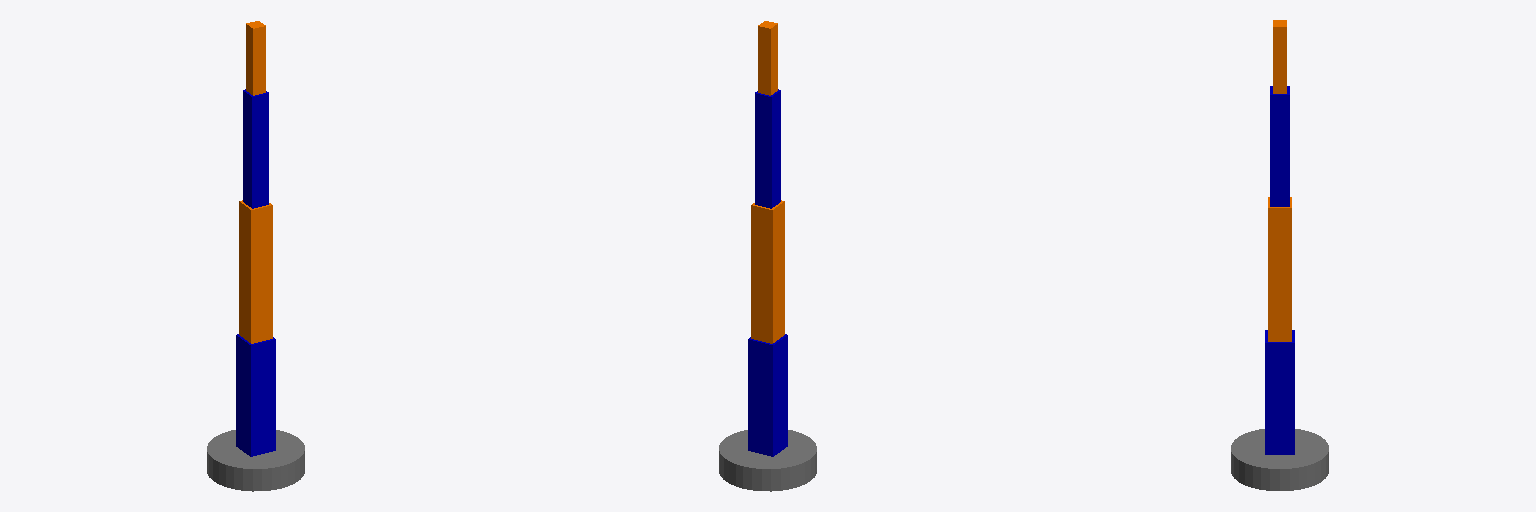
robot.urdf — 4dof_arm:
<?xml version="1.0"?>
<robot name="4dof_arm">

  <!-- MATERIALS -->
  <material name="grey">
    <color rgba="0.5 0.5 0.5 1.0"/>
  </material>
  <material name="blue">
    <color rgba="0.0 0.0 0.8 1.0"/>
  </material>
  <material name="orange">
    <color rgba="1.0 0.5 0.0 1.0"/>
  </material>

  <!-- BASE LINK -->
  <link name="base_link">
    <visual>
      <geometry>
        <cylinder radius="0.1" length="0.05"/>
      </geometry>
      <origin xyz="0 0 0.025" rpy="0 0 0"/>
      <material name="grey"/>
    </visual>
    <collision>
      <geometry>
        <cylinder radius="0.1" length="0.05"/>
      </geometry>
      <origin xyz="0 0 0.025" rpy="0 0 0"/>
    </collision>
  </link>

  <!-- LINK 1 — waist -->
  <link name="link_1">
    <visual>
      <geometry>
        <box size="0.06 0.06 0.25"/>
      </geometry>
      <origin xyz="0 0 0.125" rpy="0 0 0"/>
      <material name="blue"/>
    </visual>
    <collision>
      <geometry>
        <box size="0.06 0.06 0.25"/>
      </geometry>
      <origin xyz="0 0 0.125" rpy="0 0 0"/>
    </collision>
  </link>

  <!-- JOINT 1 — base rotation (Z axis) -->
  <joint name="joint_1" type="revolute">
    <parent link="base_link"/>
    <child link="link_1"/>
    <origin xyz="0 0 0.05" rpy="0 0 0"/>
    <axis xyz="0 0 1"/>
    <limit lower="-3.14" upper="3.14" effort="100" velocity="1.0"/>
  </joint>

  <!-- LINK 2 — upper arm -->
  <link name="link_2">
    <visual>
      <geometry>
        <box size="0.05 0.05 0.3"/>
      </geometry>
      <origin xyz="0 0 0.15" rpy="0 0 0"/>
      <material name="orange"/>
    </visual>
    <collision>
      <geometry>
        <box size="0.05 0.05 0.3"/>
      </geometry>
      <origin xyz="0 0 0.15" rpy="0 0 0"/>
    </collision>
  </link>

  <!-- JOINT 2 — shoulder (Y axis) -->
  <joint name="joint_2" type="revolute">
    <parent link="link_1"/>
    <child link="link_2"/>
    <origin xyz="0 0 0.25" rpy="0 0 0"/>
    <axis xyz="0 1 0"/>
    <limit lower="-1.57" upper="1.57" effort="100" velocity="1.0"/>
  </joint>

  <!-- LINK 3 — forearm -->
  <link name="link_3">
    <visual>
      <geometry>
        <box size="0.04 0.04 0.25"/>
      </geometry>
      <origin xyz="0 0 0.125" rpy="0 0 0"/>
      <material name="blue"/>
    </visual>
    <collision>
      <geometry>
        <box size="0.04 0.04 0.25"/>
      </geometry>
      <origin xyz="0 0 0.125" rpy="0 0 0"/>
    </collision>
  </link>

  <!-- JOINT 3 — elbow (Y axis) -->
  <joint name="joint_3" type="revolute">
    <parent link="link_2"/>
    <child link="link_3"/>
    <origin xyz="0 0 0.3" rpy="0 0 0"/>
    <axis xyz="0 1 0"/>
    <limit lower="-1.57" upper="1.57" effort="100" velocity="1.0"/>
  </joint>

  <!-- LINK 4 — wrist / end effector -->
  <link name="link_4">
    <visual>
      <geometry>
        <box size="0.03 0.03 0.15"/>
      </geometry>
      <origin xyz="0 0 0.075" rpy="0 0 0"/>
      <material name="orange"/>
    </visual>
    <collision>
      <geometry>
        <box size="0.03 0.03 0.15"/>
      </geometry>
      <origin xyz="0 0 0.075" rpy="0 0 0"/>
    </collision>
  </link>

  <!-- JOINT 4 — wrist (Y axis) -->
  <joint name="joint_4" type="revolute">
    <parent link="link_3"/>
    <child link="link_4"/>
    <origin xyz="0 0 0.25" rpy="0 0 0"/>
    <axis xyz="0 1 0"/>
    <limit lower="-1.57" upper="1.57" effort="100" velocity="1.0"/>
  </joint>

</robot>

--- What the picture shows (computed from the rendered views, not written in the file) ---
3 views of the same robot in one strip: view 1: azimuth 30°, elevation 25°; view 2: azimuth 150°, elevation 25°; view 3: azimuth 270°, elevation 25° (orthographic).
Robot: 4dof_arm — 5 links, 4 joints (4 revolute); root link base_link; default pose: every joint at zero.
Links seen in each view (by area): view 1: link_2, link_1, base_link, link_3, link_4; view 2: link_2, link_1, base_link, link_3, link_4; view 3: base_link, link_1, link_2, link_3, link_4.
Link boxes in pixels (x1,y1,x2,y2): link_2: (239, 200, 272, 343); link_1: (236, 334, 275, 456); base_link: (207, 430, 304, 491); link_3: (243, 89, 268, 208); link_4: (246, 21, 265, 95); link_2: (751, 200, 784, 343); link_1: (748, 334, 787, 456); base_link: (719, 430, 816, 491); link_3: (755, 89, 780, 208); link_4: (758, 21, 777, 95); base_link: (1231, 429, 1328, 490); link_1: (1265, 330, 1294, 454); link_2: (1268, 197, 1291, 341); link_3: (1270, 86, 1289, 206); link_4: (1273, 20, 1286, 93).
Bounding box of the posed robot: 0.2 × 0.2 × 1 m (x, y, z).
Geometry: primitives only (box / cylinder / sphere), no mesh files.
